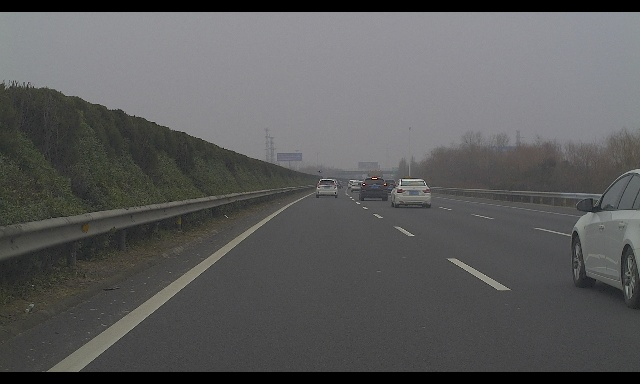car: (570, 168, 640, 309), (391, 179, 431, 208), (358, 176, 388, 201), (316, 179, 338, 198), (381, 179, 396, 194), (351, 181, 363, 192), (348, 180, 357, 189), (342, 180, 349, 186)
truck: (367, 170, 383, 188)
